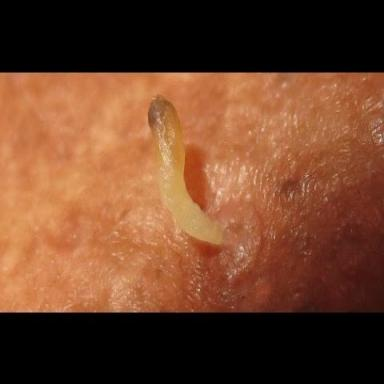Tungiasis: (148, 96, 261, 280)
